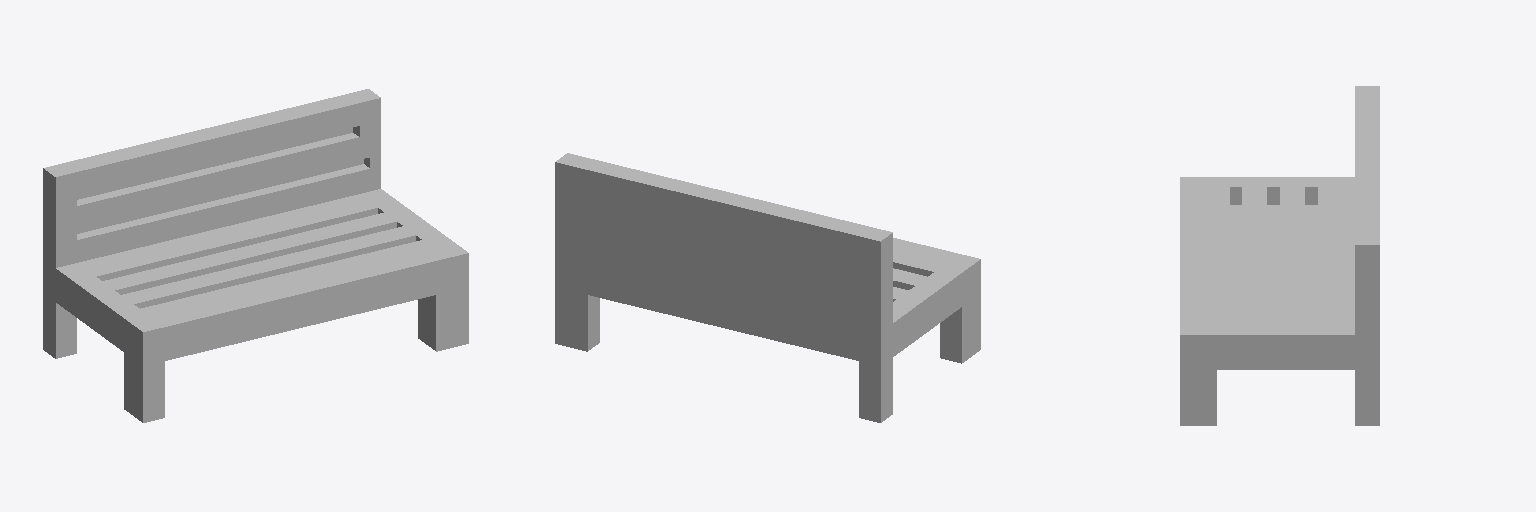
File: bench.obj
3 renders of one model, left to right at view 1: azimuth 30°, elevation 25°; view 2: azimuth 150°, elevation 25°; view 3: azimuth 270°, elevation 25°, orthographic.
Size of the model in its own units: 30 by 16 by 16.